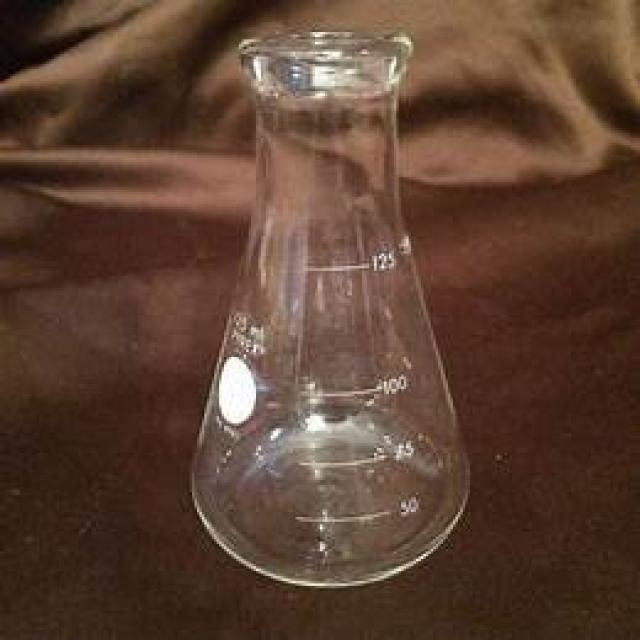Titrarion: (186, 36, 475, 587)
